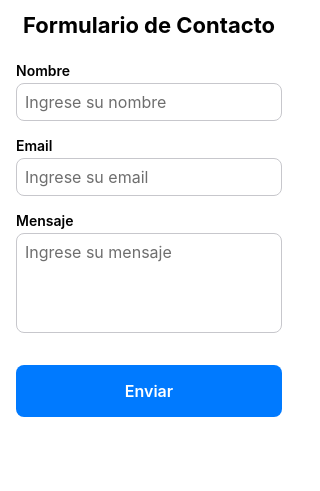
Scenario: Form Component › Validation › shows error when name is too short
Type "A" into the field with test id "name-input" at [149, 102], box [16,83,282,121]
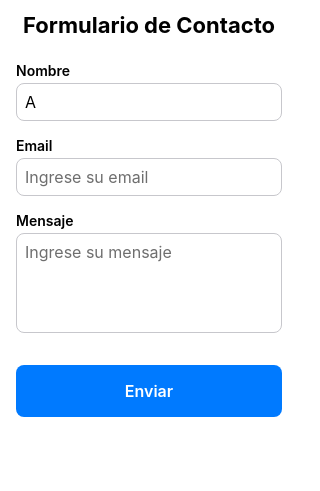
Click the element with test id "submit-button" at [149, 391], box [16,365,282,417]
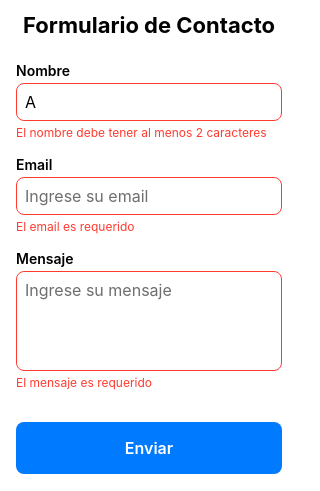
Now the text with test id "name-error" reads "El nombre debe tener al menos 2 caracteres", box [16,125,267,140]
